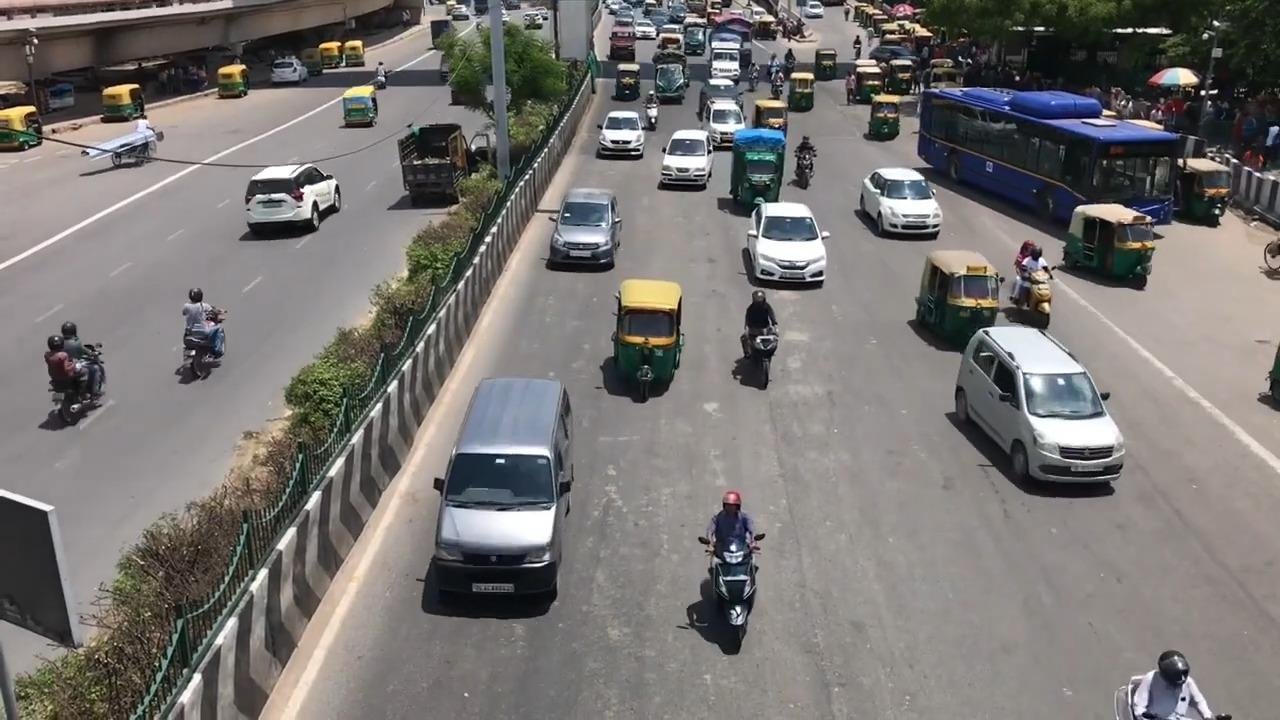Auto: (610, 278, 685, 400), (914, 249, 1003, 343), (729, 127, 786, 210), (99, 82, 145, 122), (342, 84, 378, 127), (216, 63, 249, 98)
Bike: (696, 487, 773, 654), (1113, 641, 1235, 719), (45, 315, 109, 425), (176, 281, 227, 379), (1010, 234, 1057, 328), (739, 285, 781, 390), (793, 131, 816, 189)
Bus: (916, 85, 1181, 227)
Truck: (396, 122, 492, 204)
